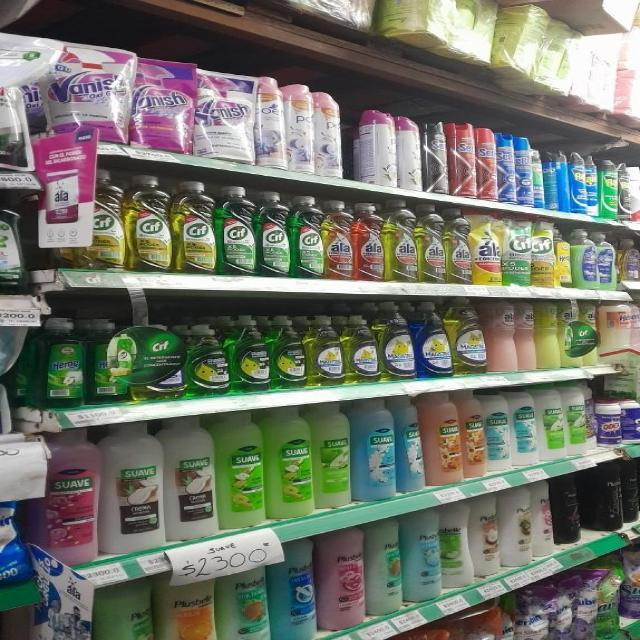ala_conc_amarillo: (383, 200, 416, 282), (323, 198, 352, 280), (416, 204, 444, 284), (444, 205, 471, 284)
ala_conc_rojo: (354, 201, 384, 282)
ala_crem_amarillo: (537, 299, 559, 369)
ala_crem_rosado: (487, 297, 516, 372), (516, 299, 536, 371)
ala_sachet_amarillo: (472, 211, 500, 285)
cif_conc_bot_amarilla: (127, 174, 171, 272), (172, 180, 215, 274), (90, 168, 125, 270)
cif_conc_botella_verde: (217, 185, 255, 275), (257, 192, 289, 278), (290, 195, 323, 278)
cif_conc_sachet_amarillo: (502, 214, 532, 286), (532, 218, 555, 288)
magistral_con_amarillo: (379, 304, 415, 381), (451, 296, 486, 374), (306, 314, 342, 386), (344, 313, 379, 383)
magistral_con_azul: (416, 300, 450, 378), (1, 503, 30, 587)
zorro: (596, 232, 616, 290)
